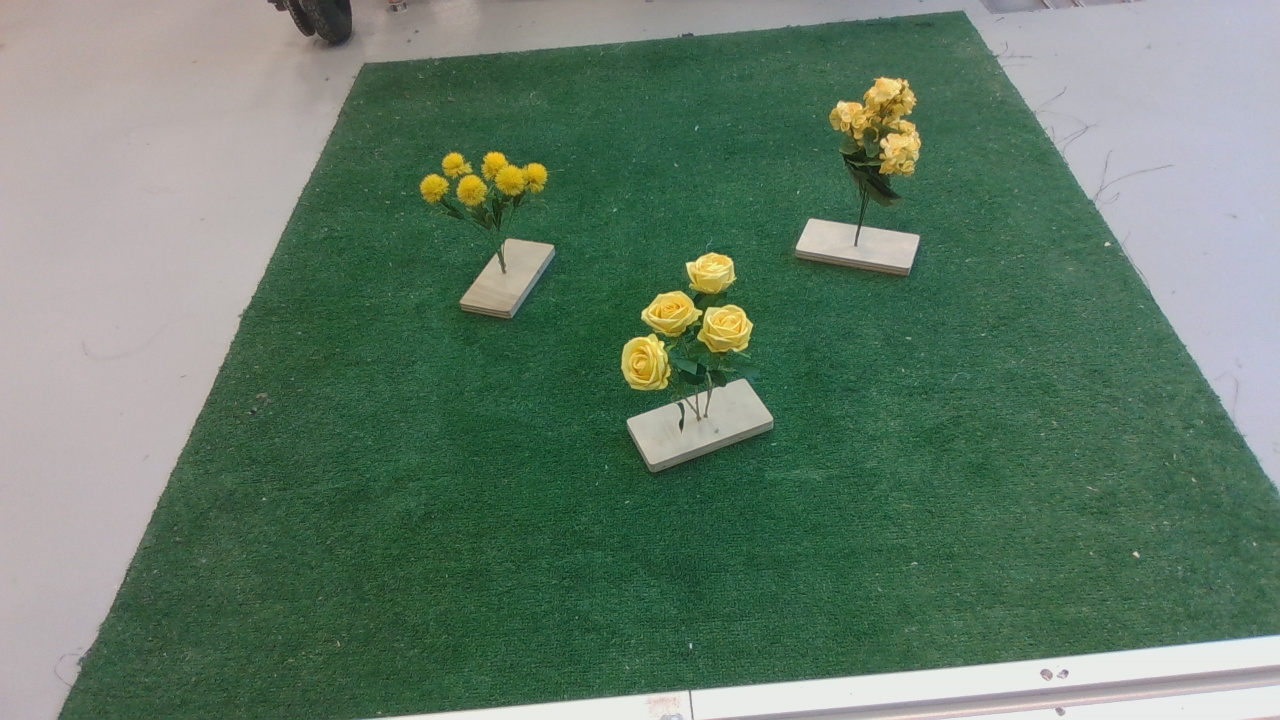dandelion: (413, 146, 561, 242)
geranium: (828, 75, 934, 216)
rose: (615, 245, 762, 418)
